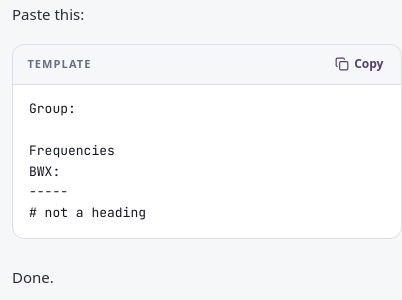
templates and photos › keeps a fenced template verbatim and copies it
Expected: the text "Group: Frequencies BWX: ----- # not a heading" is shown, [29,100,146,221]
Click the button "Copy": coordinates (359, 64) [325,51,393,77]
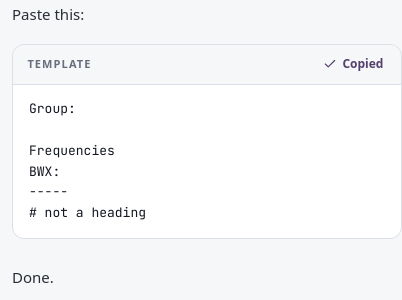
Result: the button "Copied" is shown at [313,51,393,77]
